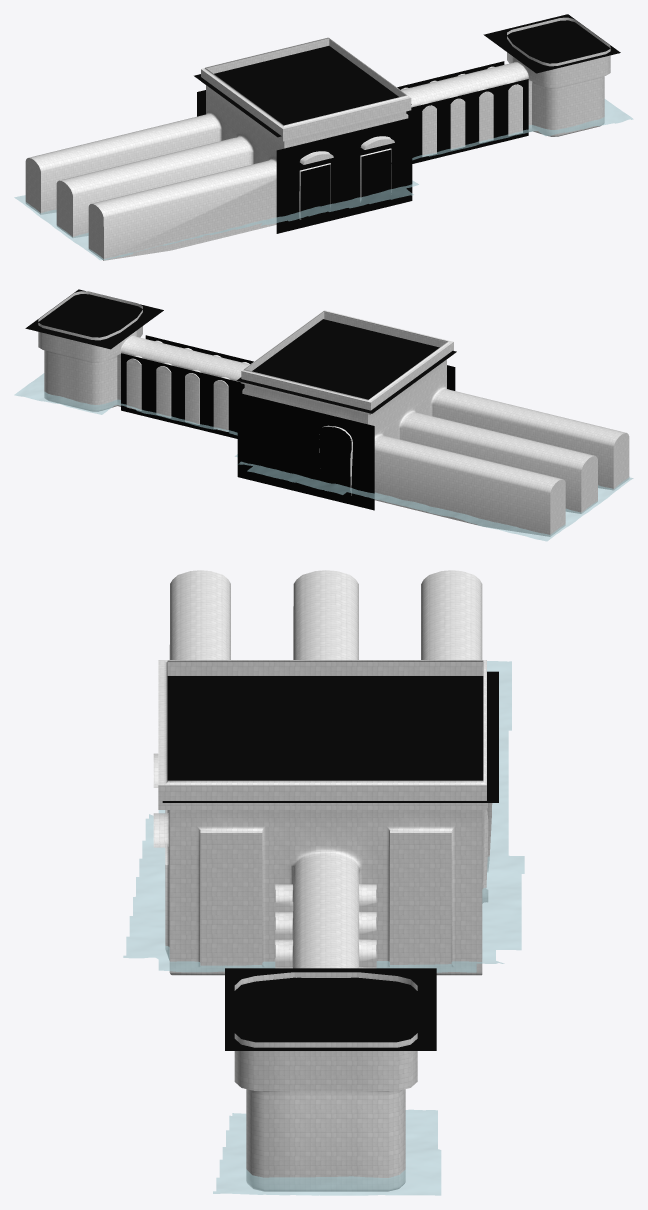
The model's file is Pool.fbx.
The picture shows the model from 3 angles, top to bottom: view 1: azimuth 30°, elevation 25°; view 2: azimuth 150°, elevation 25°; view 3: azimuth 270°, elevation 25°; orthographic projection. The views are drawn at different scales.
Parts seen in each view (by area): view 1: poolrooms_0, Plane.002_2, Plane.005_6, Plane.006_7, Plane_1, Plane.007_9; view 2: poolrooms_0, Plane.002_2, Plane.005_6, Plane.007_9, Plane.006_7, Plane_1; view 3: poolrooms_0, Plane.005_6, Plane.007_9, Plane.006_7.
Part boxes in pixels (<box>): poolrooms_0: <box>25,17,610,260</box>; Plane.002_2: <box>197,61,504,233</box>; Plane.005_6: <box>194,46,411,137</box>; Plane.006_7: <box>483,14,620,73</box>; Plane_1: <box>406,79,528,163</box>; Plane.007_9: <box>14,99,633,260</box>; poolrooms_0: <box>38,291,629,536</box>; Plane.002_2: <box>121,353,455,510</box>; Plane.005_6: <box>236,319,456,413</box>; Plane.007_9: <box>14,373,633,541</box>; Plane.006_7: <box>25,289,163,349</box>; Plane_1: <box>145,335,253,364</box>; poolrooms_0: <box>153,570,492,1191</box>; Plane.005_6: <box>162,671,498,802</box>; Plane.007_9: <box>123,661,524,1195</box>; Plane.006_7: <box>225,968,436,1050</box>.
Size of the model in its own units: 9315 by 1749 by 2970.
